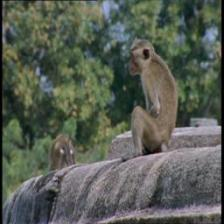monkey: (123, 34, 161, 80)
